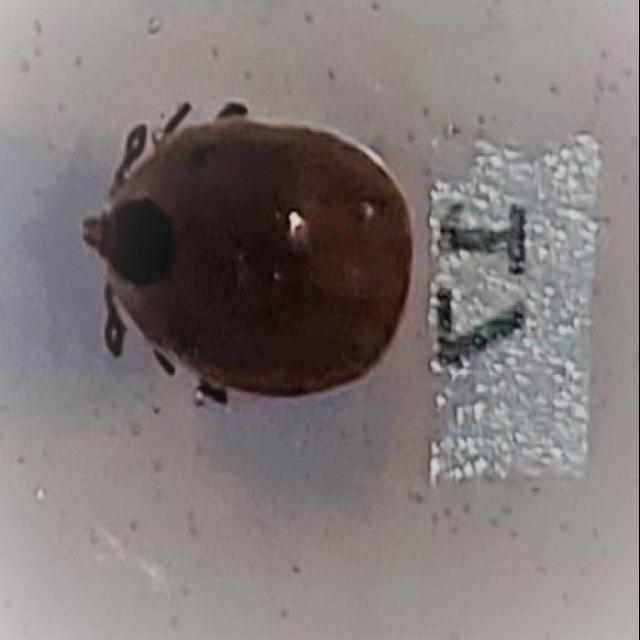Rhipicephalus Sanguineus-F-Fed: (83, 101, 416, 406)
